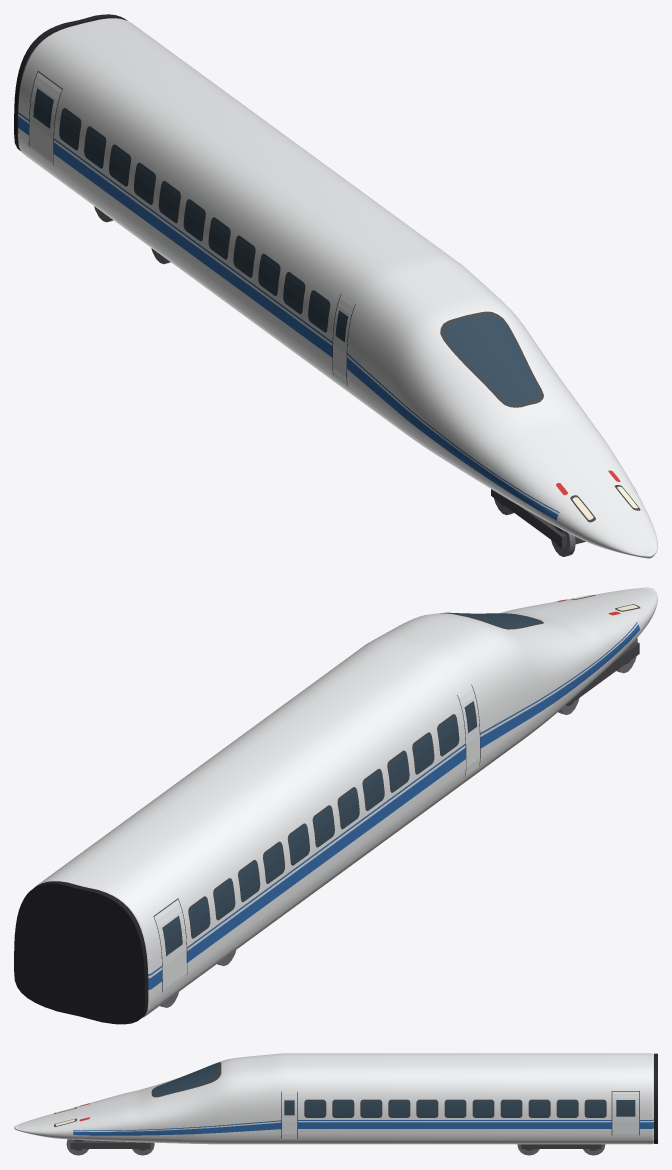
File: 384_close.fbx
The picture shows the model from 3 angles, top to bottom: view 1: azimuth 30°, elevation 25°; view 2: azimuth 150°, elevation 25°; view 3: azimuth 270°, elevation 25°; orthographic projection. The views are drawn at different scales.
Visible parts, largest first — view 1: 384_close; view 2: 384_close; view 3: 384_close.
Part boxes in pixels (x1,y1,x2,y2): 384_close: (14,14,657,558); 384_close: (14,587,657,1024); 384_close: (14,1053,657,1155).
Bounding box in the file's own units: 3.38 × 3.66 × 25.
